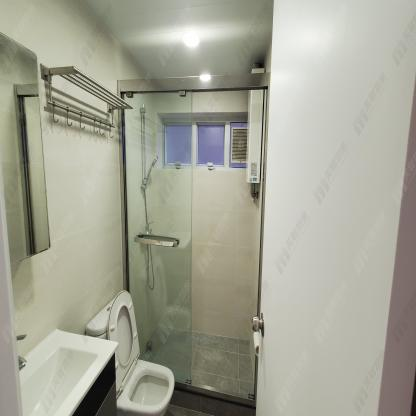Toilet: (86, 291, 176, 416)
Toilet Sink: (18, 327, 119, 416)
Water Cubicle: (118, 72, 271, 416)
